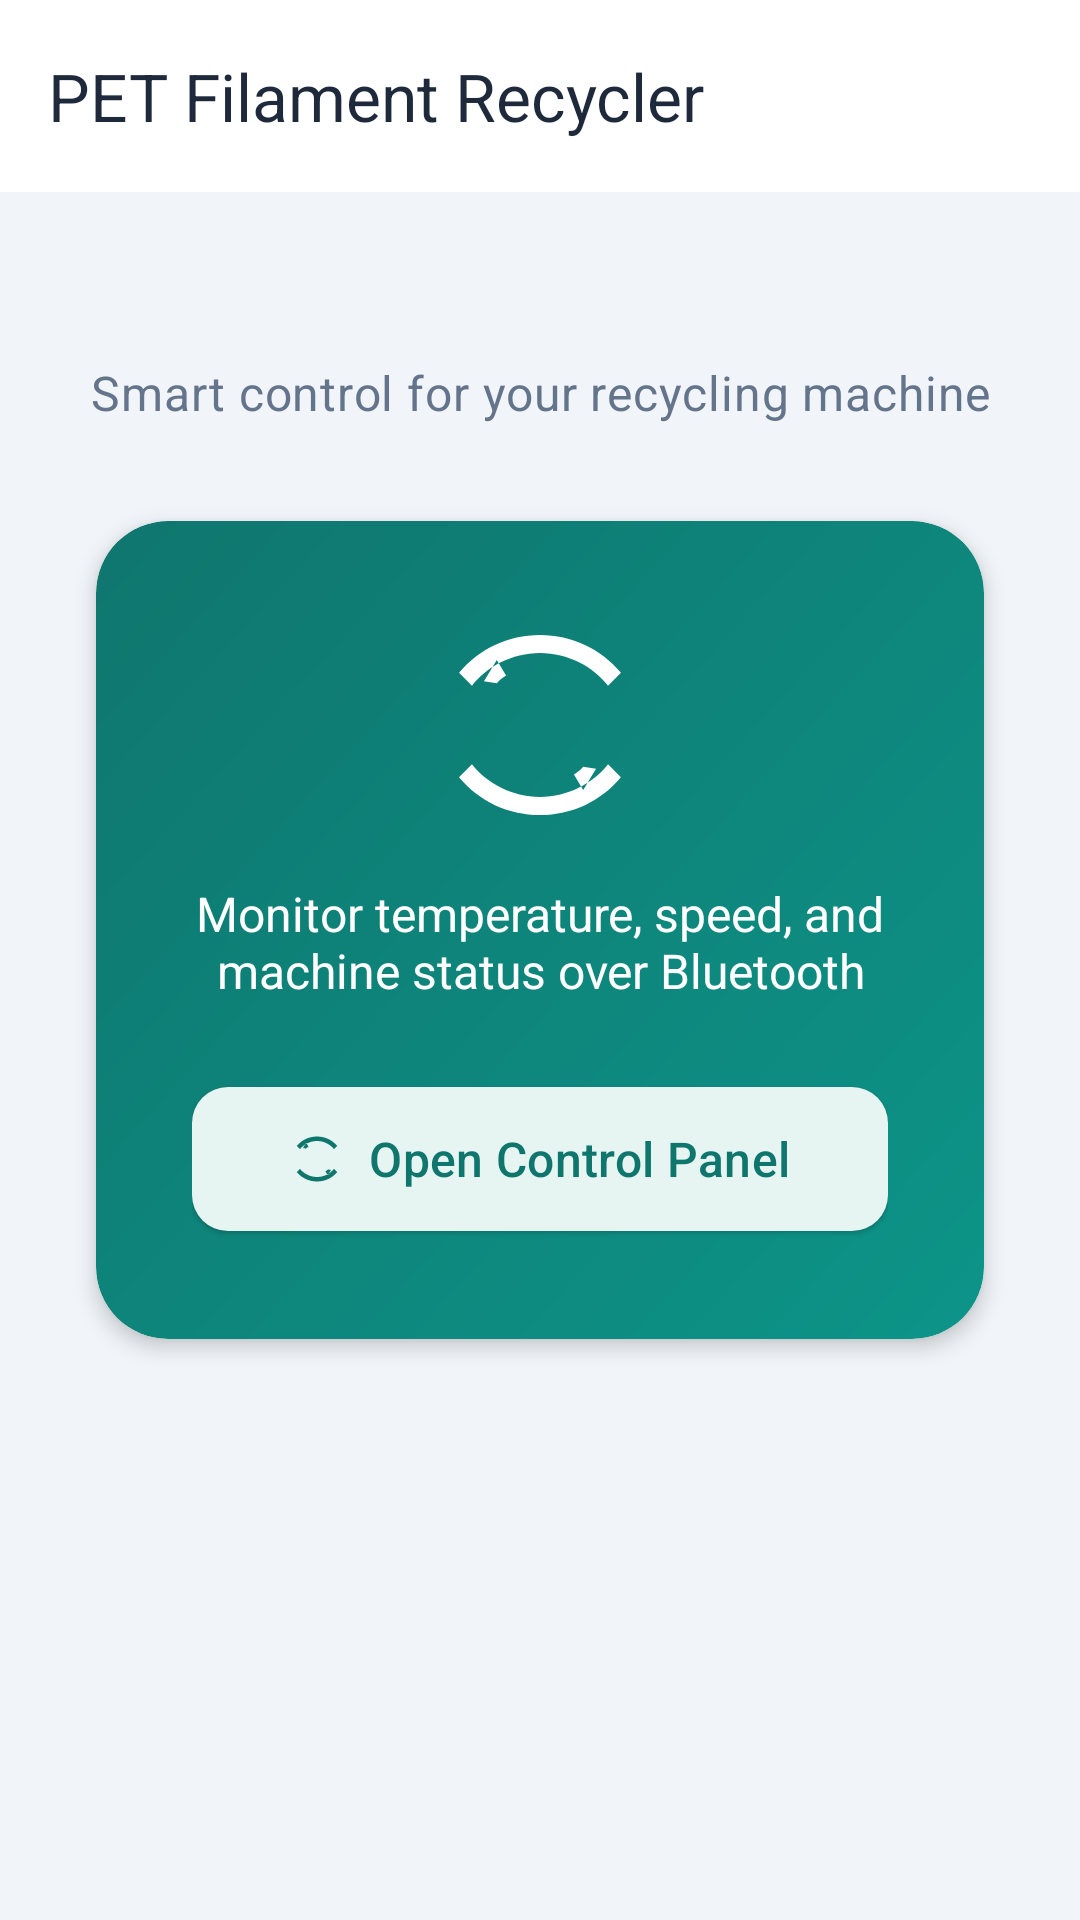

Where icons sit on this 1080w x 1920h app screen, as rect(x1, y1, x2, y2):
recycle: rect(459, 635, 621, 815)
